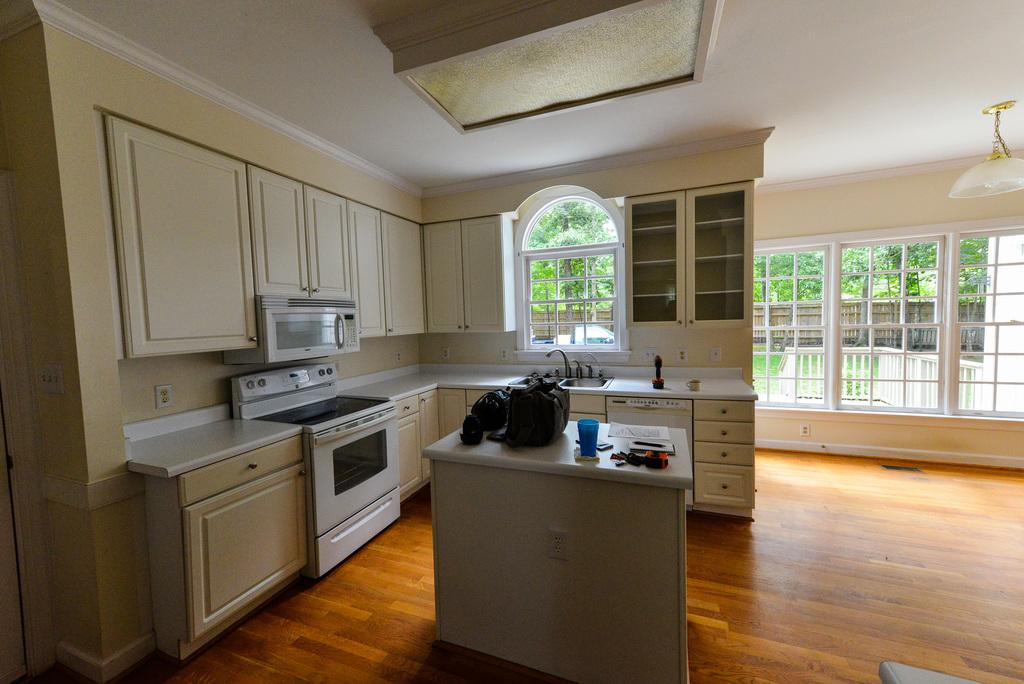cabinet_door: (112, 128, 250, 346), (684, 193, 750, 322), (251, 169, 307, 293), (630, 200, 682, 326), (351, 205, 388, 336), (420, 228, 466, 332), (460, 224, 504, 332), (384, 220, 422, 340), (308, 194, 351, 296), (700, 464, 754, 504), (694, 421, 752, 446), (695, 396, 753, 420), (700, 442, 750, 462)
handle: (332, 308, 350, 347), (242, 457, 262, 471), (718, 422, 734, 438), (718, 446, 732, 464), (718, 482, 734, 496), (246, 330, 260, 346), (718, 400, 732, 414)
